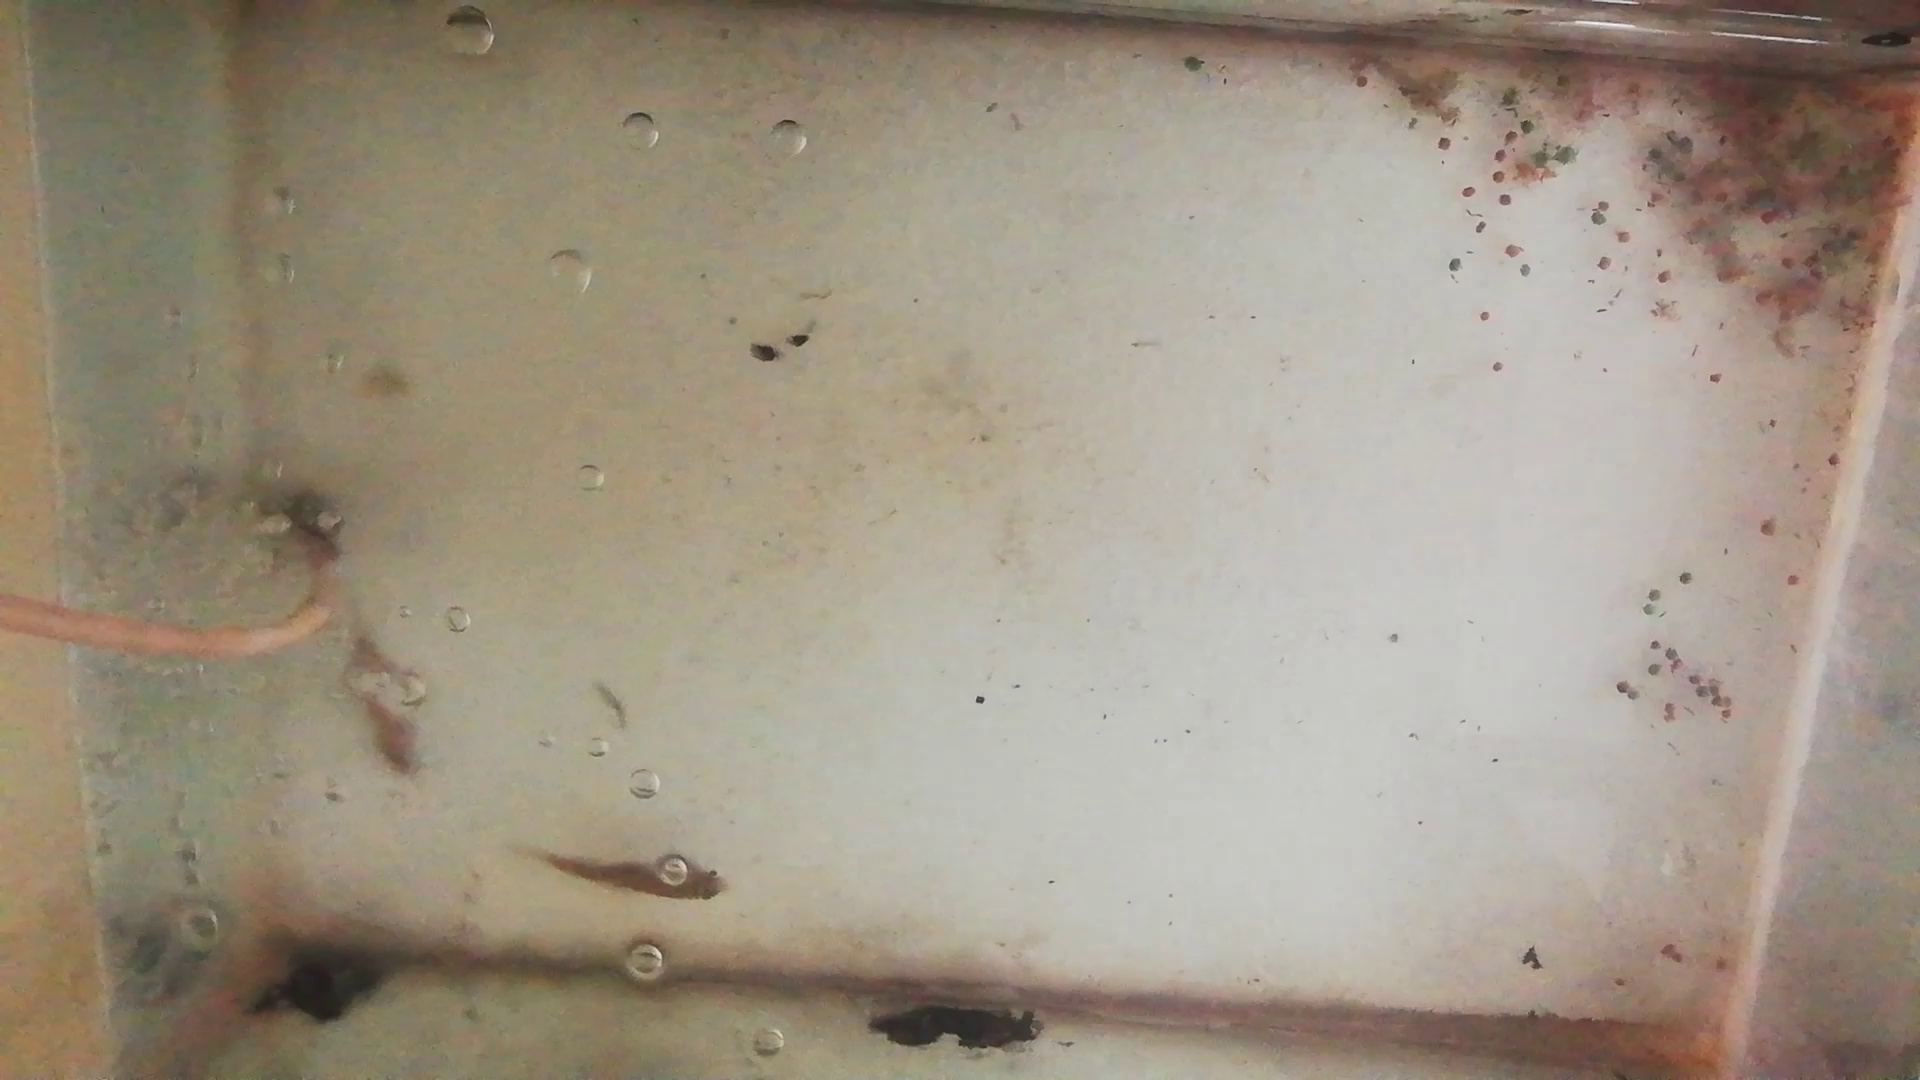fish: (343, 613, 426, 781), (549, 856, 731, 913)
